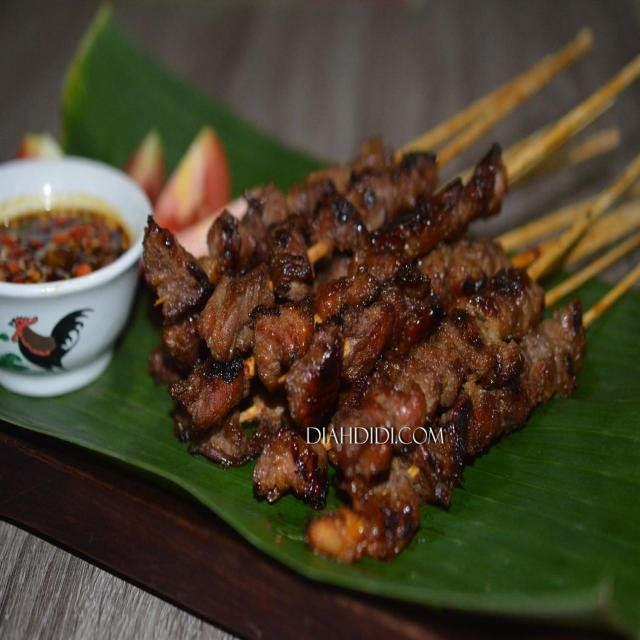Sate: (148, 43, 640, 591)
